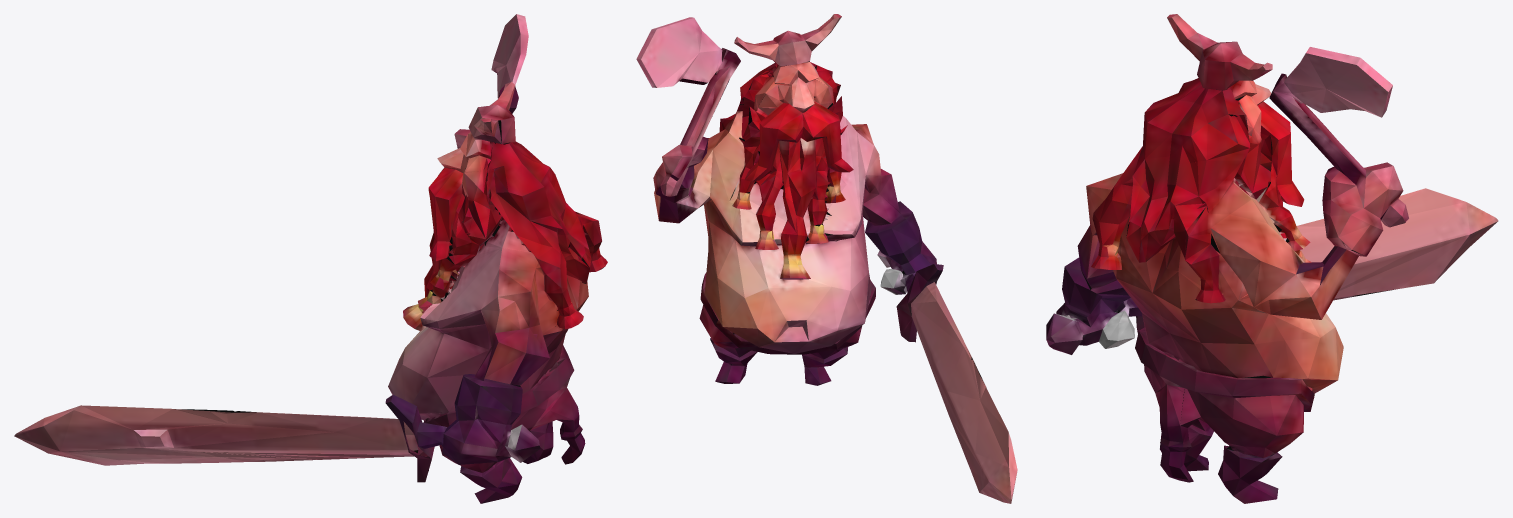
Rendered from dwarf_LOD0.glb.
The picture shows the model from 3 angles, left to right: view 1: azimuth 30°, elevation 25°; view 2: azimuth 150°, elevation 25°; view 3: azimuth 270°, elevation 25°; orthographic projection. The views are drawn at different scales.
Parts seen in each view (by area): view 1: dwarf_LOD0; view 2: dwarf_LOD0; view 3: dwarf_LOD0.
Boxes of the visible parts, box(x1,y1,x2,y2) form: dwarf_LOD0: box(14, 14, 607, 503); dwarf_LOD0: box(636, 14, 1017, 503); dwarf_LOD0: box(1046, 14, 1498, 503).
Size of the model in its own units: 0.8634 by 0.7208 by 0.635.
1 material, 1 textured.
